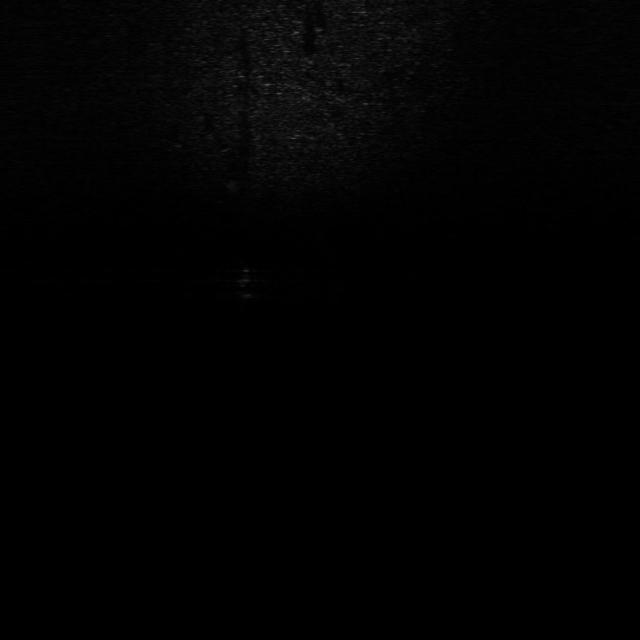human body: (224, 262, 262, 314)
